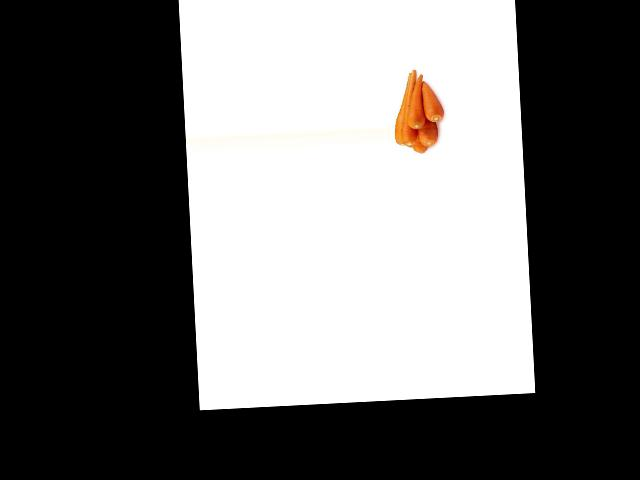carrot: (421, 77, 445, 122)
